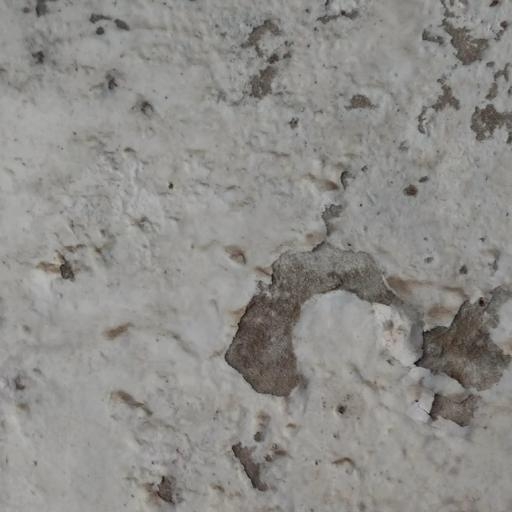peeling: (184, 197, 512, 436)
